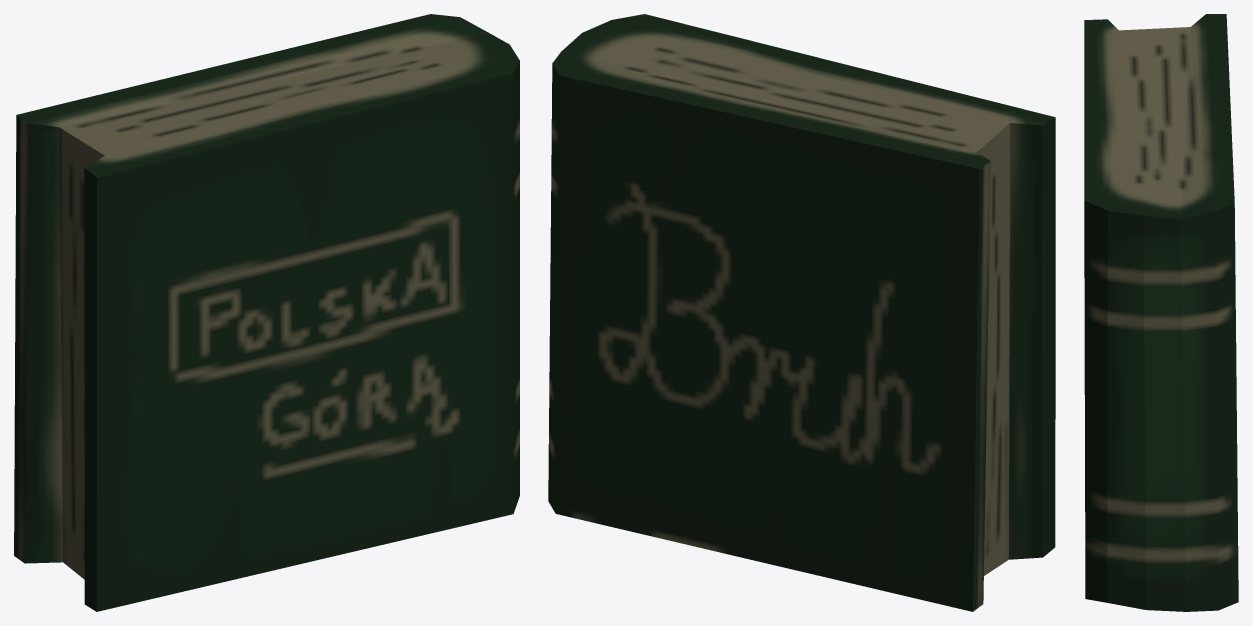
File: Book1.fbx
3 renders of one model, left to right at view 1: azimuth 30°, elevation 25°; view 2: azimuth 150°, elevation 25°; view 3: azimuth 270°, elevation 25°, orthographic. The views are drawn at different scales.
Visible parts, largest first — view 1: Book; view 2: Book; view 3: Book.
Boxes of the visible parts, x1,y1,x2,y2 form: Book: (14,14,519,611); Book: (548,14,1055,611); Book: (1084,14,1238,611).
Size of the model in its own units: 0.4786 by 0.455 by 0.1581.
